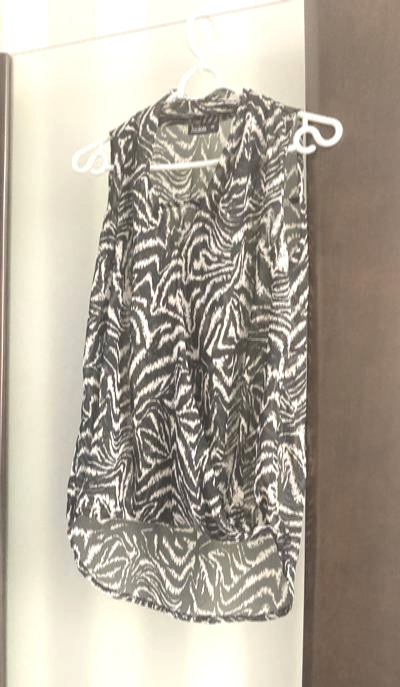Dress: (38, 73, 363, 634)
